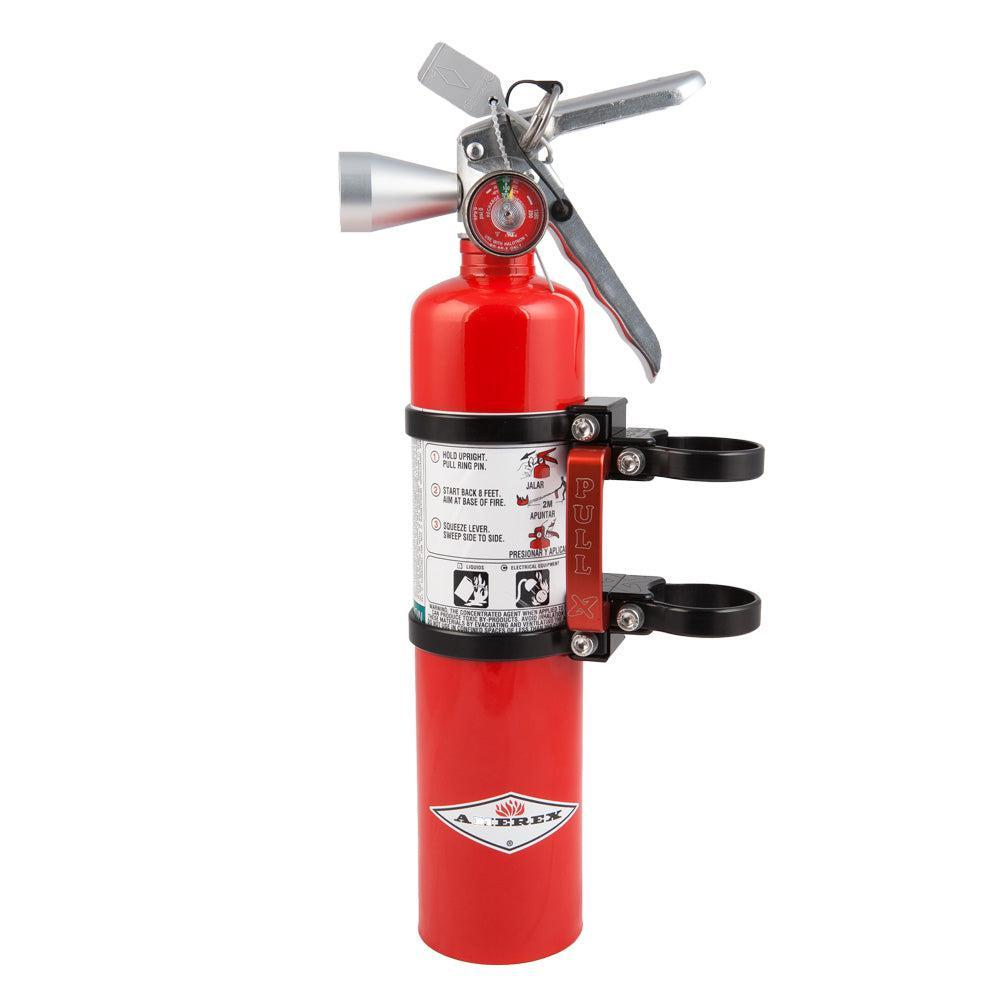Fire Extinguisher: (308, 15, 778, 972)
